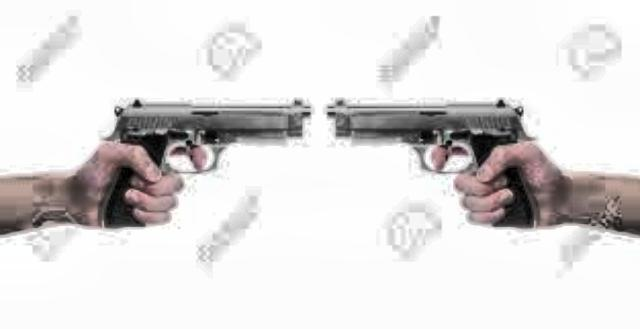pistol: (94, 87, 308, 242), (327, 91, 535, 231)
